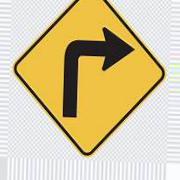right: (13, 1, 166, 154)
